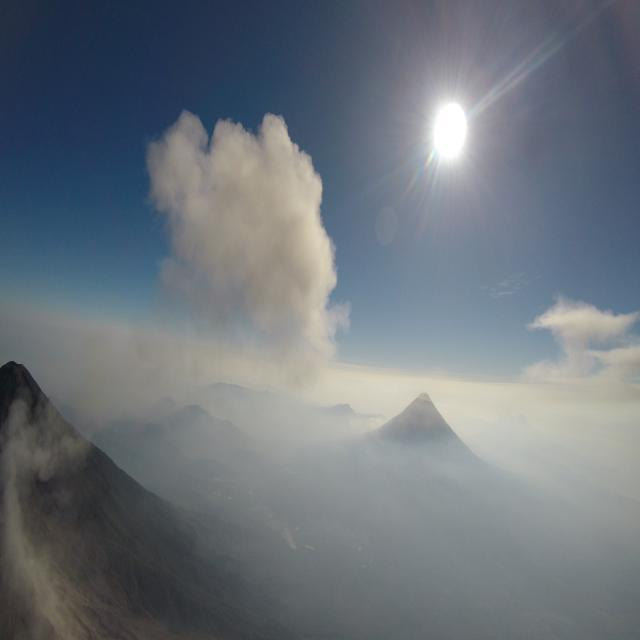Plume: (139, 103, 358, 403)
